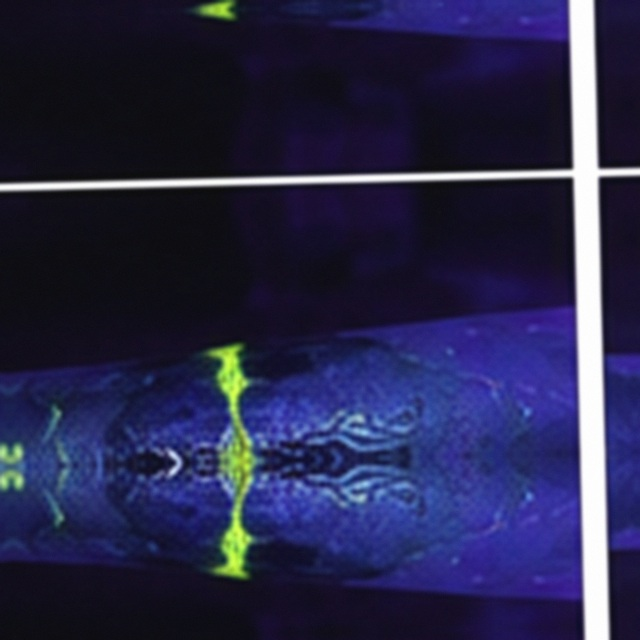hydraulic_oil_leak: (206, 345, 258, 578), (51, 405, 61, 424), (60, 451, 65, 459), (63, 471, 66, 475)
